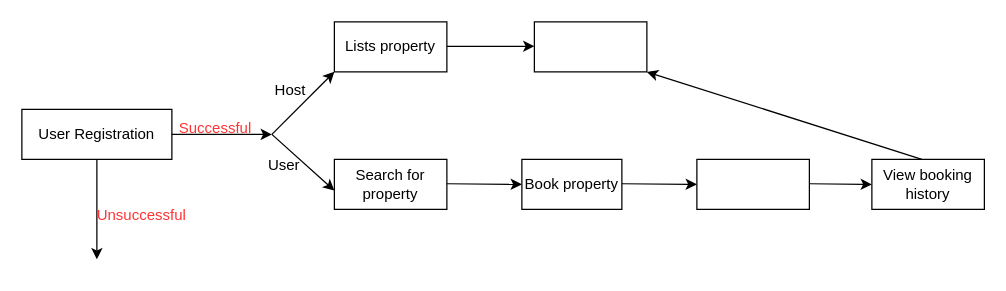
The diagram is 1006 pixels wide and 291 high, and some of its shapes have lost their labels. Here are the shapes that lost their labels. From the top down, the centre of each, then its label:
the point at 590,46: Logout
the point at 752,183: Pay for property
